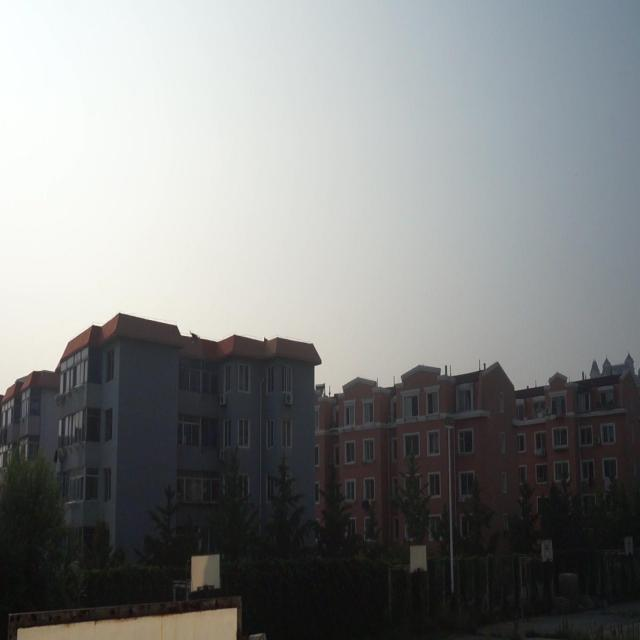UAV: (189, 330, 200, 344)
